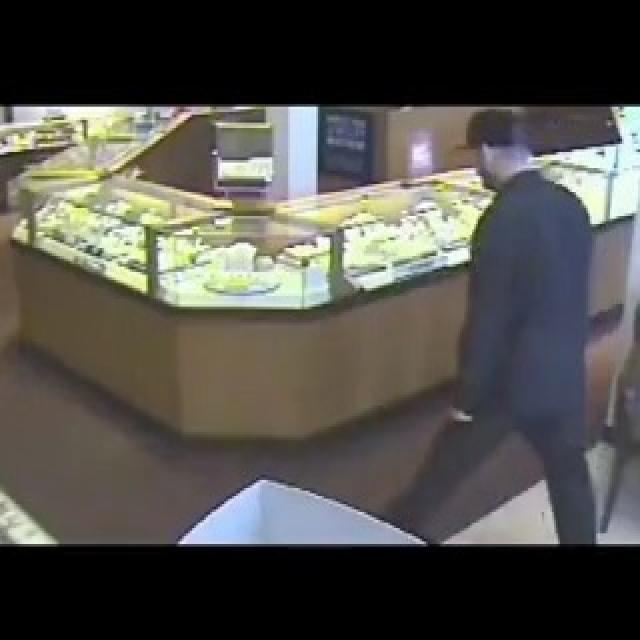Normal: (368, 106, 607, 546)
